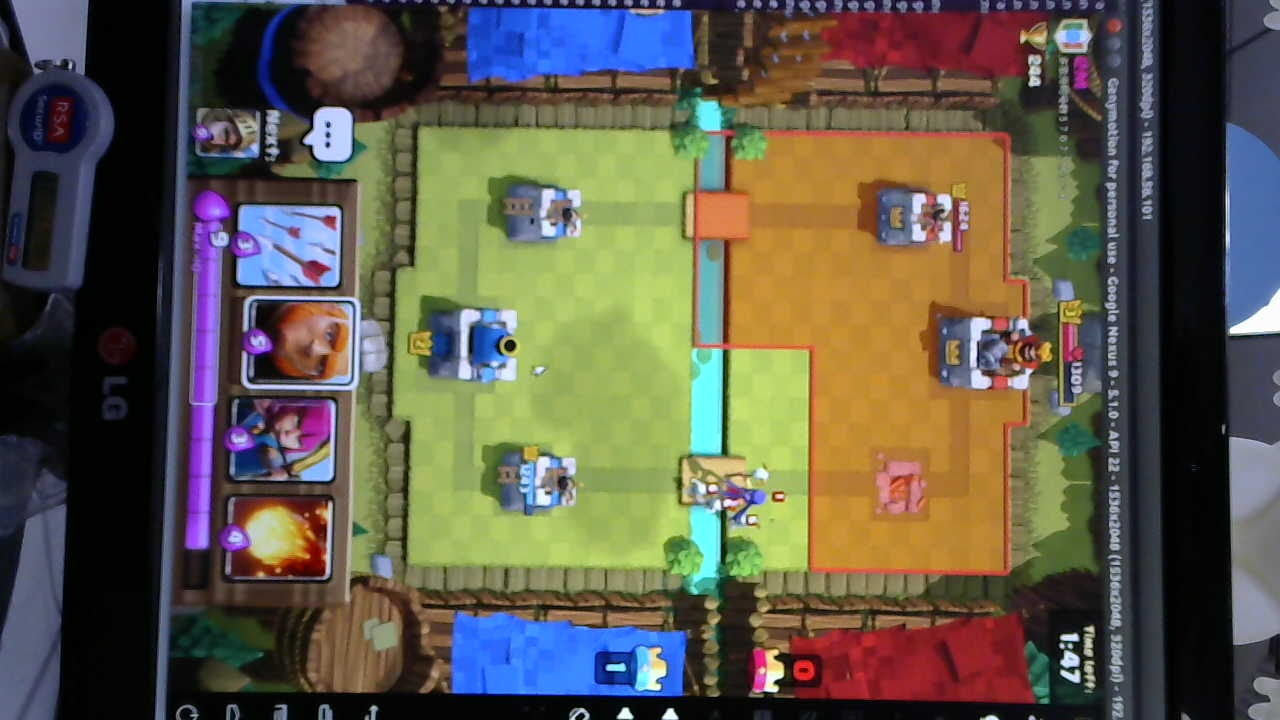arena: (500, 178, 583, 244), (501, 450, 583, 516)
earena: (875, 185, 956, 248)
eking: (943, 312, 1037, 389)
king: (426, 301, 521, 387)
skeleton: (683, 477, 726, 511)
witch: (713, 475, 771, 508)
